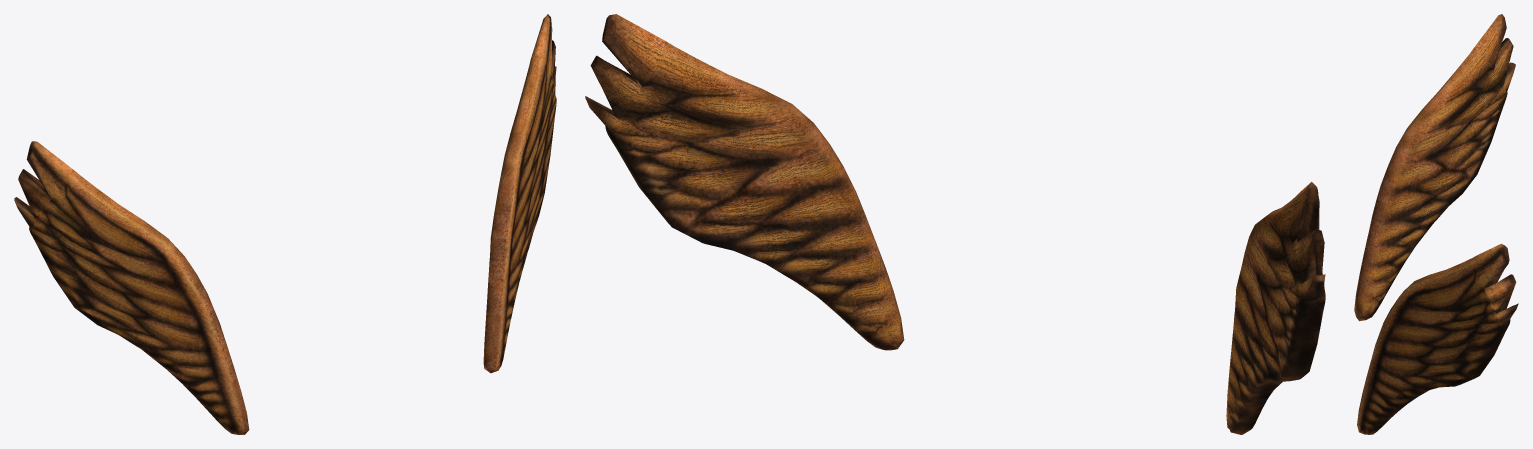
File: LEG_HERMES_WINGS.fbx
3 renders of one model, left to right at view 1: azimuth 30°, elevation 25°; view 2: azimuth 150°, elevation 25°; view 3: azimuth 270°, elevation 25°, orthographic. The views are drawn at different scales.
Parts seen in each view (by area): view 1: LEG_HERMES_WINGS_RIGHT, LEG_HERMES_WINGS_LEFT; view 2: LEG_HERMES_WINGS_LEFT, LEG_HERMES_WINGS_RIGHT; view 3: LEG_HERMES_WINGS_RIGHT, LEG_HERMES_WINGS_LEFT.
Boxes of the visible parts, x1=… form: LEG_HERMES_WINGS_RIGHT: x1=14, y1=141, x2=249, y2=434; LEG_HERMES_WINGS_LEFT: x1=483, y1=14, x2=556, y2=373; LEG_HERMES_WINGS_LEFT: x1=585, y1=14, x2=904, y2=350; LEG_HERMES_WINGS_RIGHT: x1=1226, y1=182, x2=1325, y2=434; LEG_HERMES_WINGS_RIGHT: x1=1354, y1=14, x2=1515, y2=321; LEG_HERMES_WINGS_LEFT: x1=1357, y1=243, x2=1518, y2=434.
Bounding box in the file's own units: 0.0655 × 0.0311 × 0.0187.
